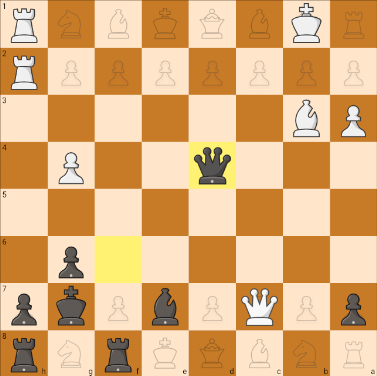bb: (147, 285, 185, 327)
bk: (52, 285, 94, 328), (194, 144, 232, 185)
bp: (3, 288, 48, 328), (51, 241, 91, 280), (337, 288, 373, 330)
br: (3, 330, 46, 376), (97, 335, 138, 376)
wb: (288, 98, 324, 140)
wk: (286, 2, 325, 45)
wp: (337, 97, 371, 139), (53, 151, 89, 186)
wq: (240, 286, 280, 329)
wr: (3, 4, 41, 45), (9, 52, 41, 90)
